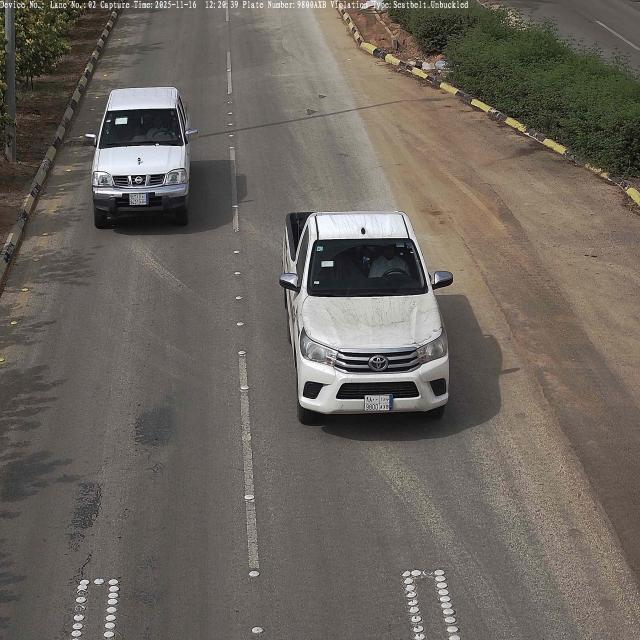person_with_seatbelt: (145, 112, 178, 139)
person_without_seatbelt: (368, 242, 412, 279)
